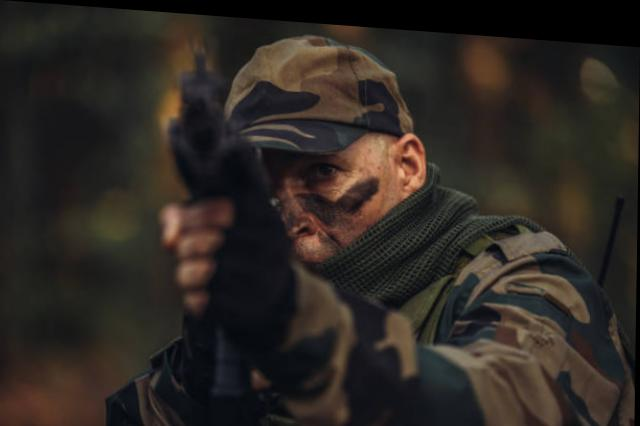other: (169, 24, 574, 424)
